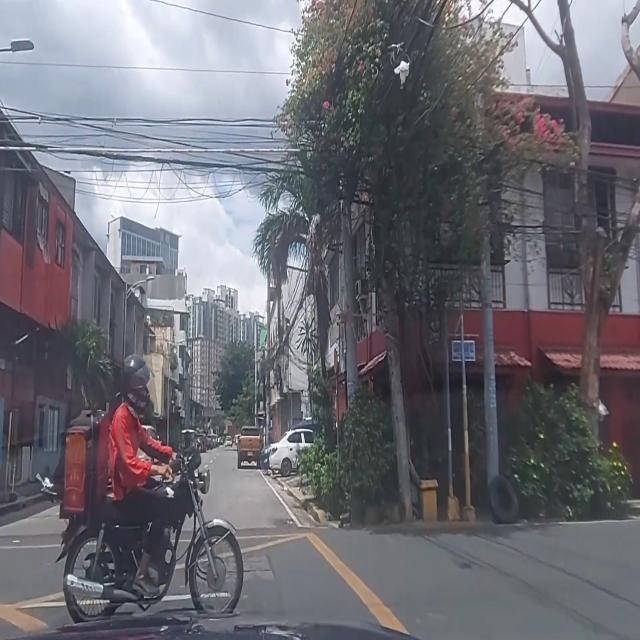car: (268, 430, 316, 476), (236, 426, 264, 468)
jeepney: (181, 428, 198, 454)
motorcycle: (59, 354, 244, 620)
